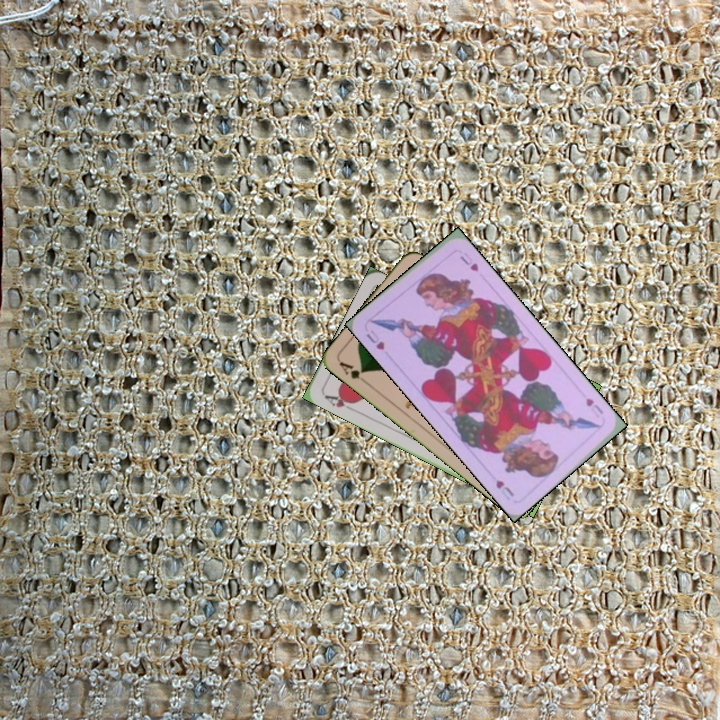GA: (335, 357, 371, 387)
HA: (320, 389, 358, 414)
HU: (362, 326, 387, 353), (582, 394, 606, 421)
